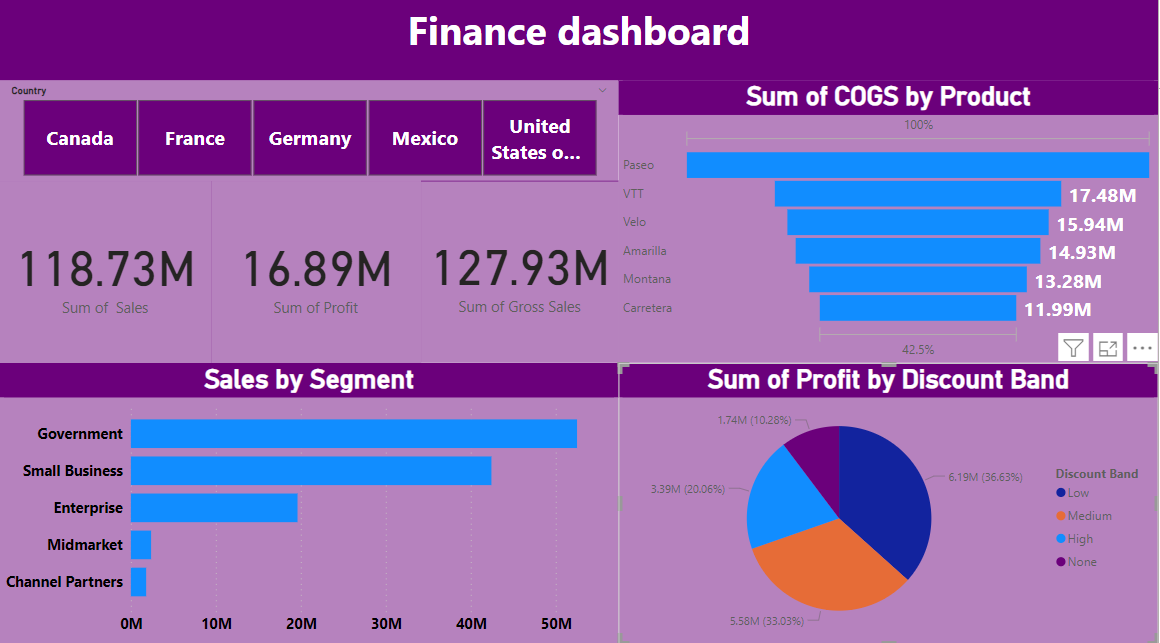

The dashboard page shown, as its layout file describes it:
{"tool":"powerbi","page":{"name":"Page 1","canvas":[1280,720],"ordinal":0},"visuals":[{"type":"pieChart","fields":{"Category":["financials.Discount Band"],"Y":["Sum(financials.Profit)"]},"box":[688.3,411.3,592.3,308.5],"z":0},{"type":"barChart","title":"Sales by Segment","fields":{"Category":["financials.Segment"],"Y":["Sum(financials. Sales)"]},"box":[0,411.3,688.3,308.5],"z":1},{"type":"funnel","fields":{"Category":["financials.Product"],"Y":["Sum(financials.COGS)"]},"box":[688.3,101.5,592.3,309.9],"z":2},{"type":"textbox","box":[9.6,11,1271,90.5],"z":3},{"type":"card","fields":{"Values":["Sum(financials. Sales)"]},"box":[9.6,212.5,231.7,198.8],"z":4},{"type":"slicer","fields":{"Values":["financials.Country"]},"box":[9.6,101.5,678.7,111.1],"z":5},{"type":"card","fields":{"Values":["Sum(financials.Profit)"]},"box":[241.3,212.5,230.3,198.8],"z":6},{"type":"card","fields":{"Values":["Sum(financials.Gross Sales)"]},"box":[471.6,211.1,216.6,200.2],"z":7}]}

Visuals, with their boxes in screenshot pixels (x1, y1, x2, y2), scaled from the page's 1280x720 canvas onto the 1160x643 screenshot:
pieChart - financials.Discount Band x Sum(financials.Profit): (624, 367, 1159, 642)
"Sales by Segment" barChart: (0, 367, 624, 642)
funnel - financials.Product x Sum(financials.COGS): (624, 91, 1159, 367)
textbox: (9, 10, 1159, 91)
card - Sum(financials. Sales): (9, 190, 219, 367)
slicer - financials.Country: (9, 91, 624, 190)
card - Sum(financials.Profit): (219, 190, 427, 367)
card - Sum(financials.Gross Sales): (427, 189, 624, 367)
